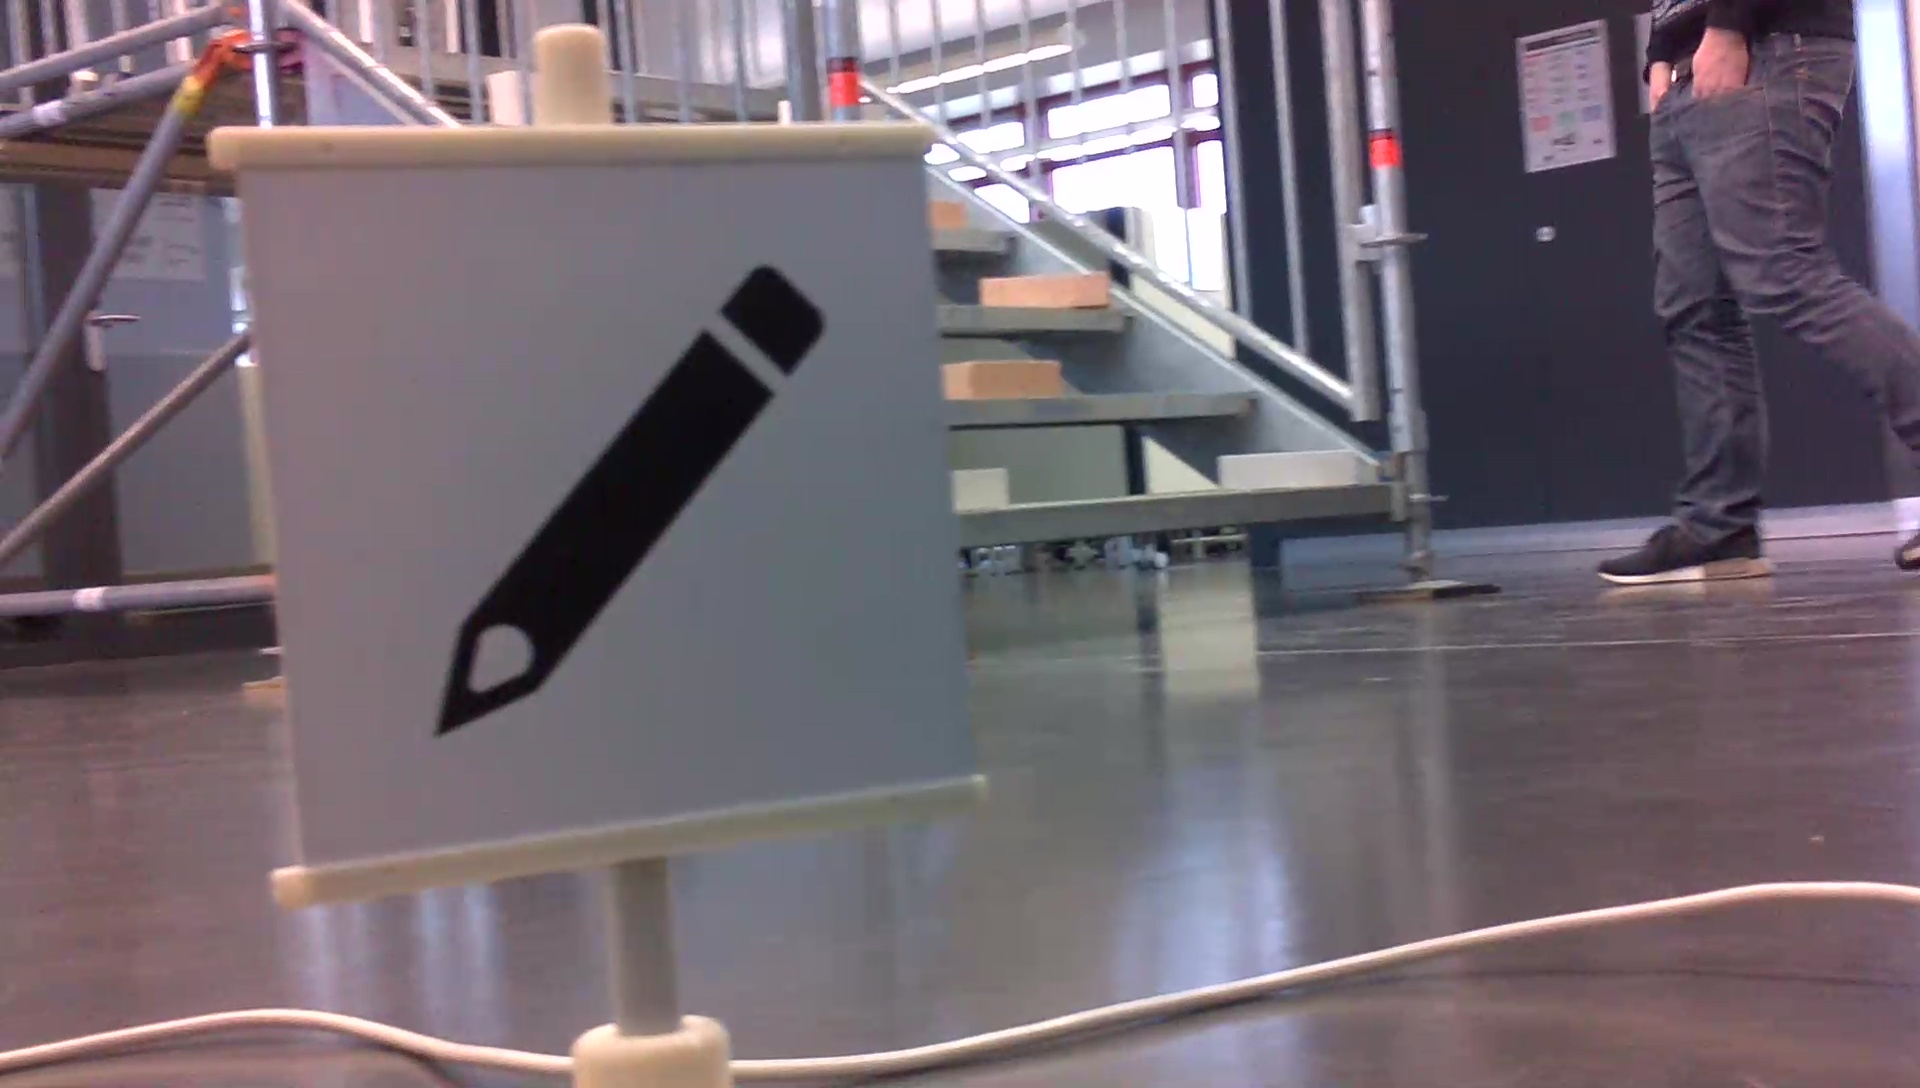brick: (1222, 447, 1357, 487), (945, 359, 1060, 398), (980, 276, 1106, 309), (953, 468, 1005, 506), (928, 200, 960, 229)
edge: (960, 480, 1389, 550), (948, 385, 1259, 425), (940, 306, 1142, 335), (932, 223, 1022, 256)
pencil: (425, 249, 843, 742)
